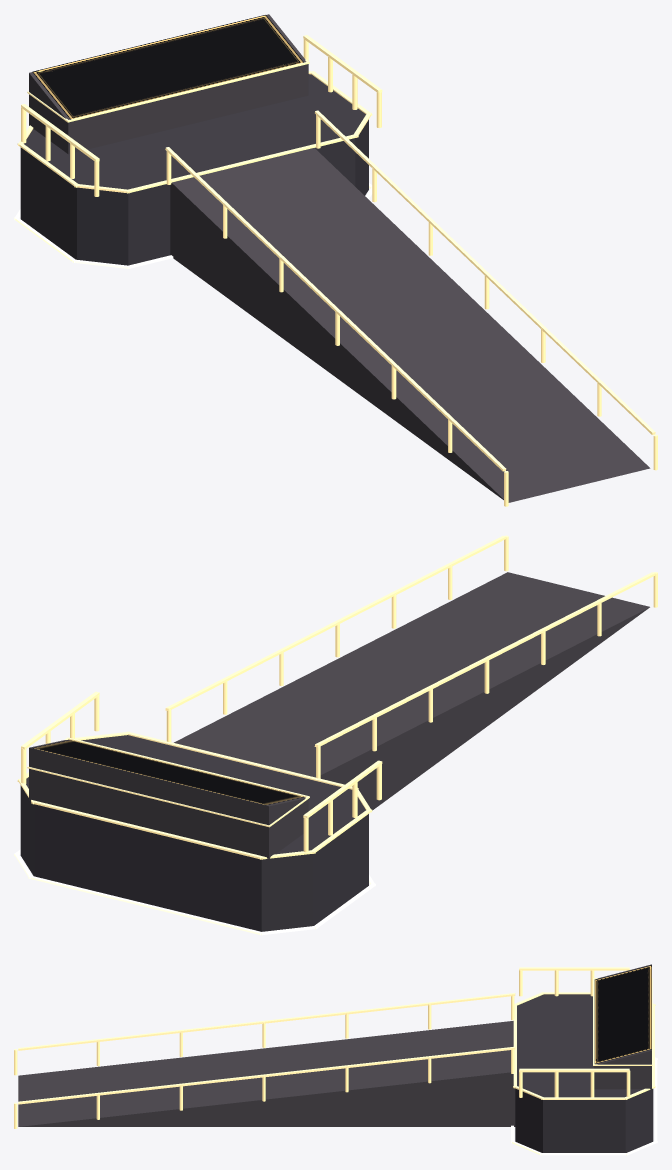
Rendered from mwd_booth.glb.
3 views of the same model, one above another, from view 1: azimuth 30°, elevation 25°; view 2: azimuth 150°, elevation 25°; view 3: azimuth 270°, elevation 25° (orthographic). The views are drawn at different scales.
Visible parts, largest first — view 1: booth; view 2: booth; view 3: booth.
Boxes of the visible parts, left/top/right/bottom form: booth: left=14, top=14, right=657, bottom=506; booth: left=14, top=535, right=657, bottom=935; booth: left=14, top=964, right=657, bottom=1155.
Size of the model in its own units: 9.34 by 3.77 by 23.33.
8 materials, 1 textured.
